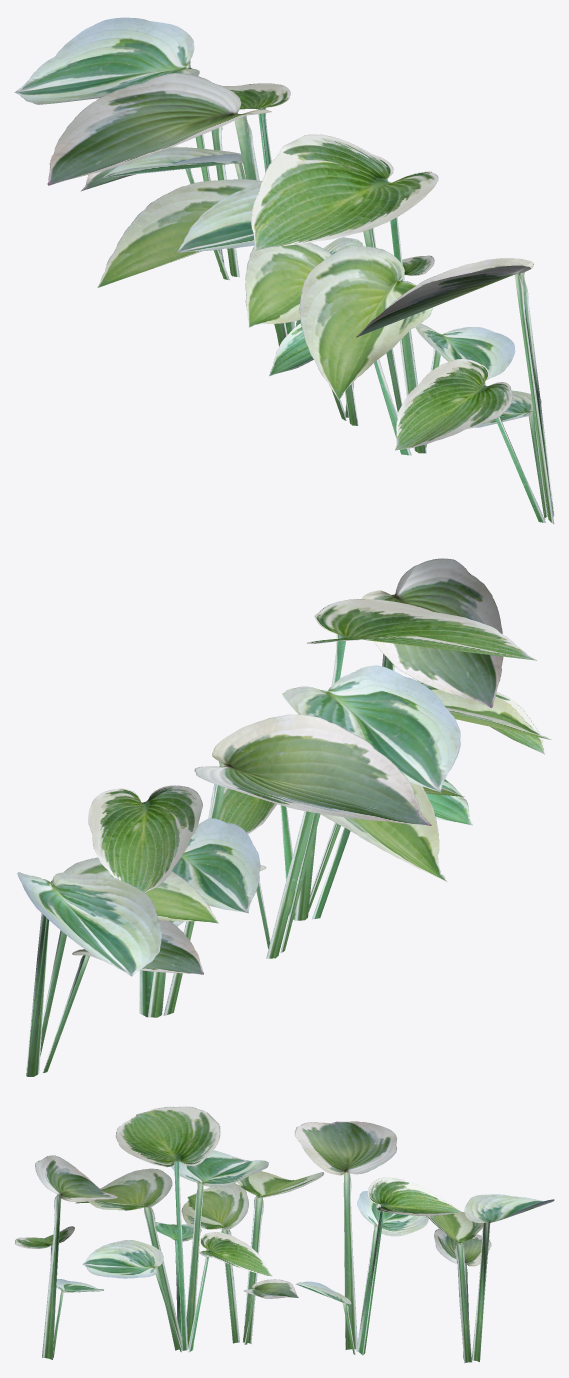
The model's file is plant_small_wg_00_line_09.fbx.
3 views of the same model, one above another, from view 1: azimuth 30°, elevation 25°; view 2: azimuth 150°, elevation 25°; view 3: azimuth 270°, elevation 25° (orthographic). The views are drawn at different scales.
Parts seen in each view (by area): view 1: plant_small_wg_00_line_09; view 2: plant_small_wg_00_line_09; view 3: plant_small_wg_00_line_09.
Part boxes in pixels (x1,y1,x2,y2): plant_small_wg_00_line_09: (14, 17, 554, 523); plant_small_wg_00_line_09: (17, 558, 551, 1076); plant_small_wg_00_line_09: (15, 1106, 554, 1363).
Bounding box in the file's own units: 43.91 × 44.9 × 108.
Materials: 1 (1 with a texture image).
